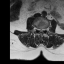CCS_severe_stenosis: (40, 26, 42, 34)
LFS_normal: (43, 26, 45, 32)
LLS_normal: (42, 26, 43, 33)
RFS_stenosis: (37, 26, 38, 32)
RLS_normal: (38, 27, 40, 33)
